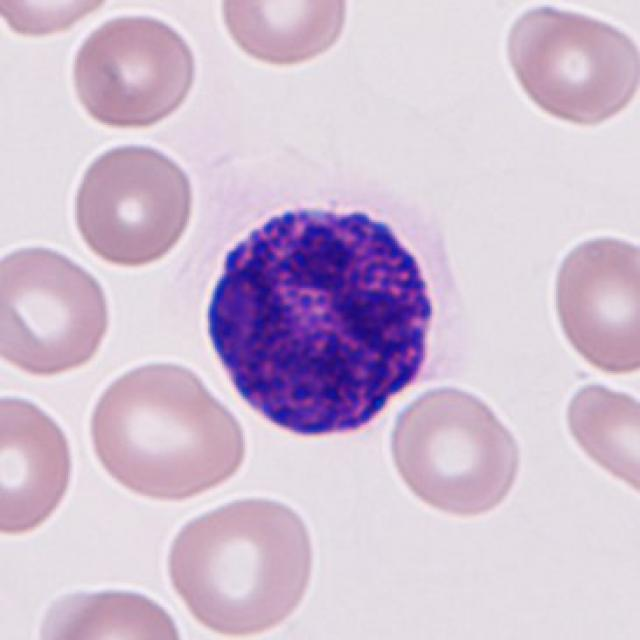Basophil: (192, 178, 478, 448)
RBC: (82, 354, 250, 503), (161, 489, 323, 638), (385, 380, 526, 520), (498, 2, 638, 130), (66, 137, 200, 269), (65, 7, 201, 133), (0, 237, 115, 381), (546, 225, 638, 380), (0, 386, 80, 539), (559, 374, 640, 503), (29, 577, 192, 640), (215, 0, 355, 71), (0, 0, 122, 41)
